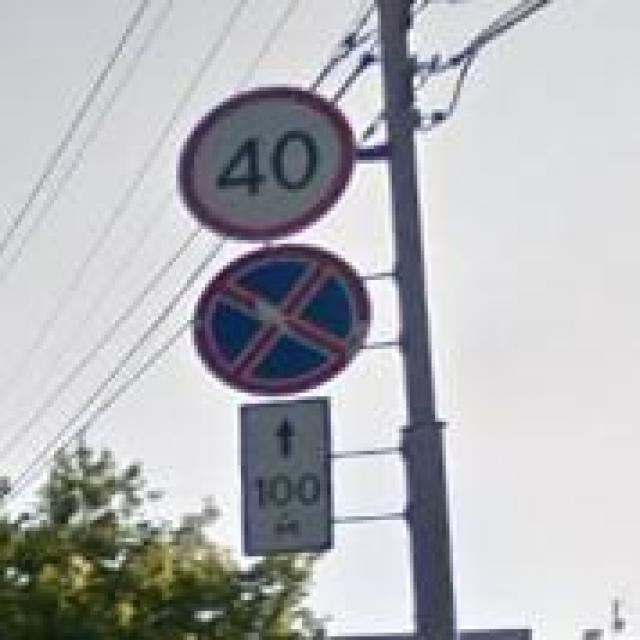Ograniczenie predkosci do 40: (176, 84, 356, 244)
